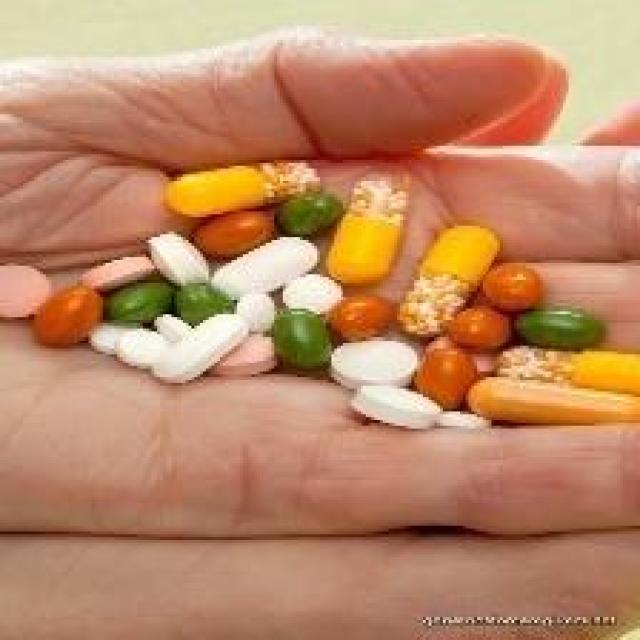Medicine: (0, 148, 640, 465)
